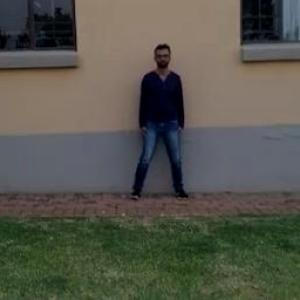follow: (137, 41, 184, 202)
